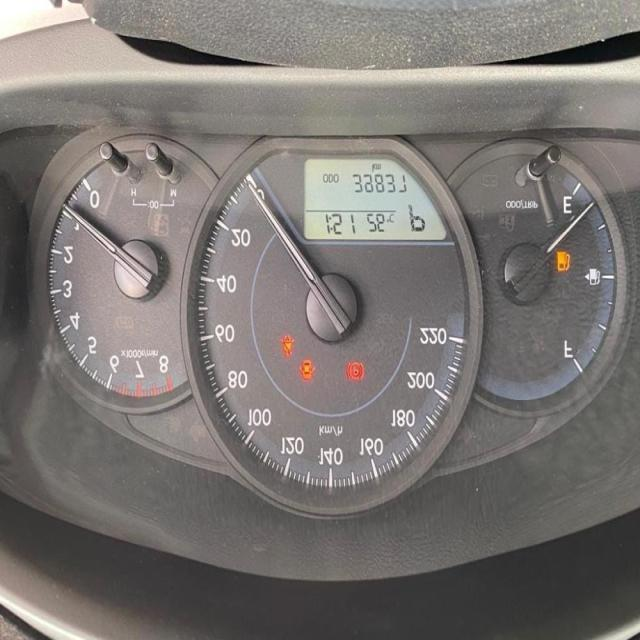Seat Belt: (282, 333, 294, 358)
